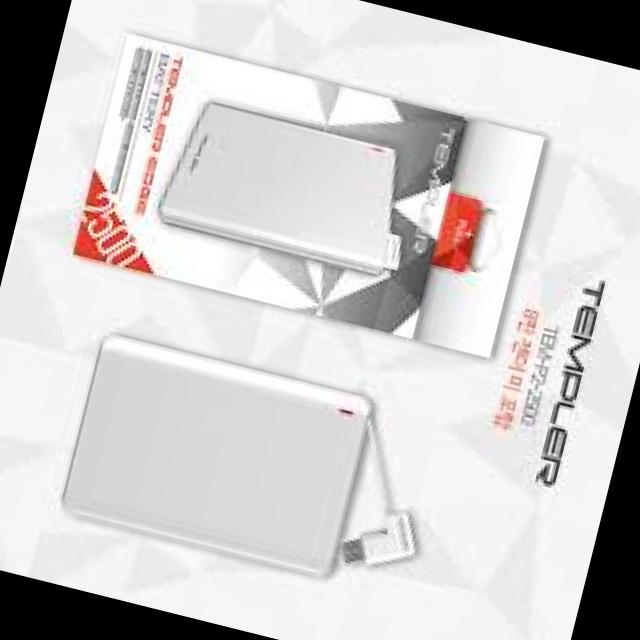portable-charger: (51, 326, 386, 597), (150, 90, 418, 288)
